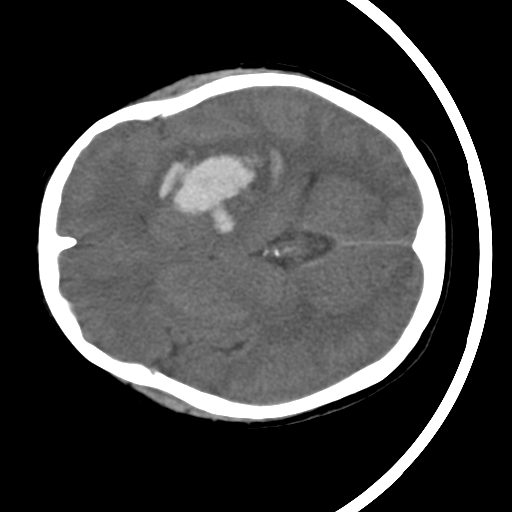a: (136, 120, 294, 250)
